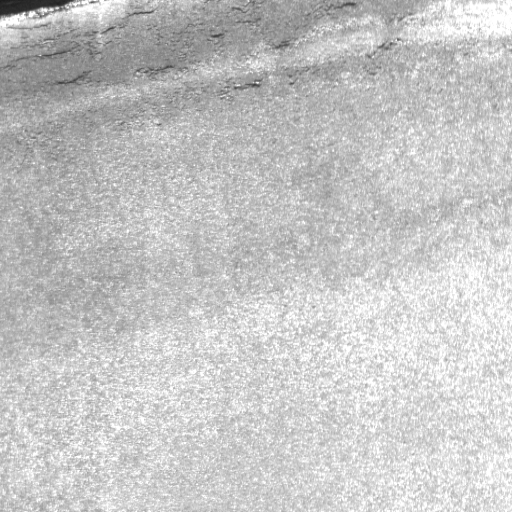bianjiaoliewen: (36, 9, 297, 92)
